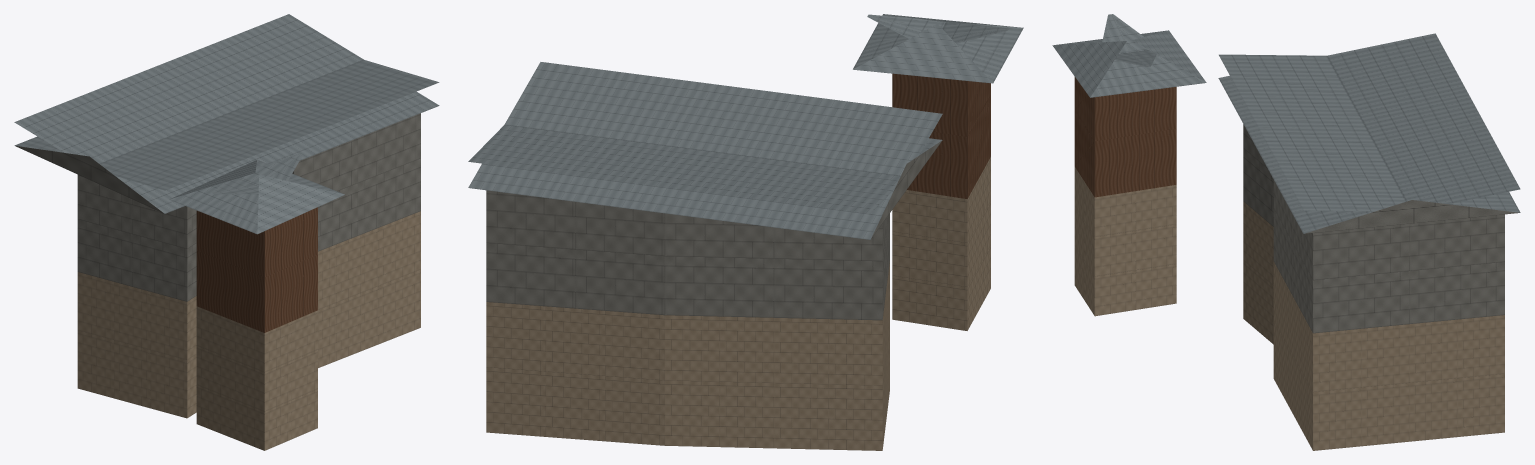
File: bld_c9_19_426.gltf
3 views of the same model, side by side, from view 1: azimuth 30°, elevation 25°; view 2: azimuth 150°, elevation 25°; view 3: azimuth 270°, elevation 25° (orthographic). The views are drawn at different scales.
Parts seen in each view (by area): view 1: bld_c9_19_426; view 2: bld_c9_19_426; view 3: bld_c9_19_426.
Part boxes in pixels (x1,y1,x2,y2): bld_c9_19_426: (14, 14, 439, 450); bld_c9_19_426: (468, 14, 1023, 450); bld_c9_19_426: (1052, 14, 1520, 450).
Size of the model in its own units: 16.13 by 12.1 by 18.02.
5 materials, 5 textured.
